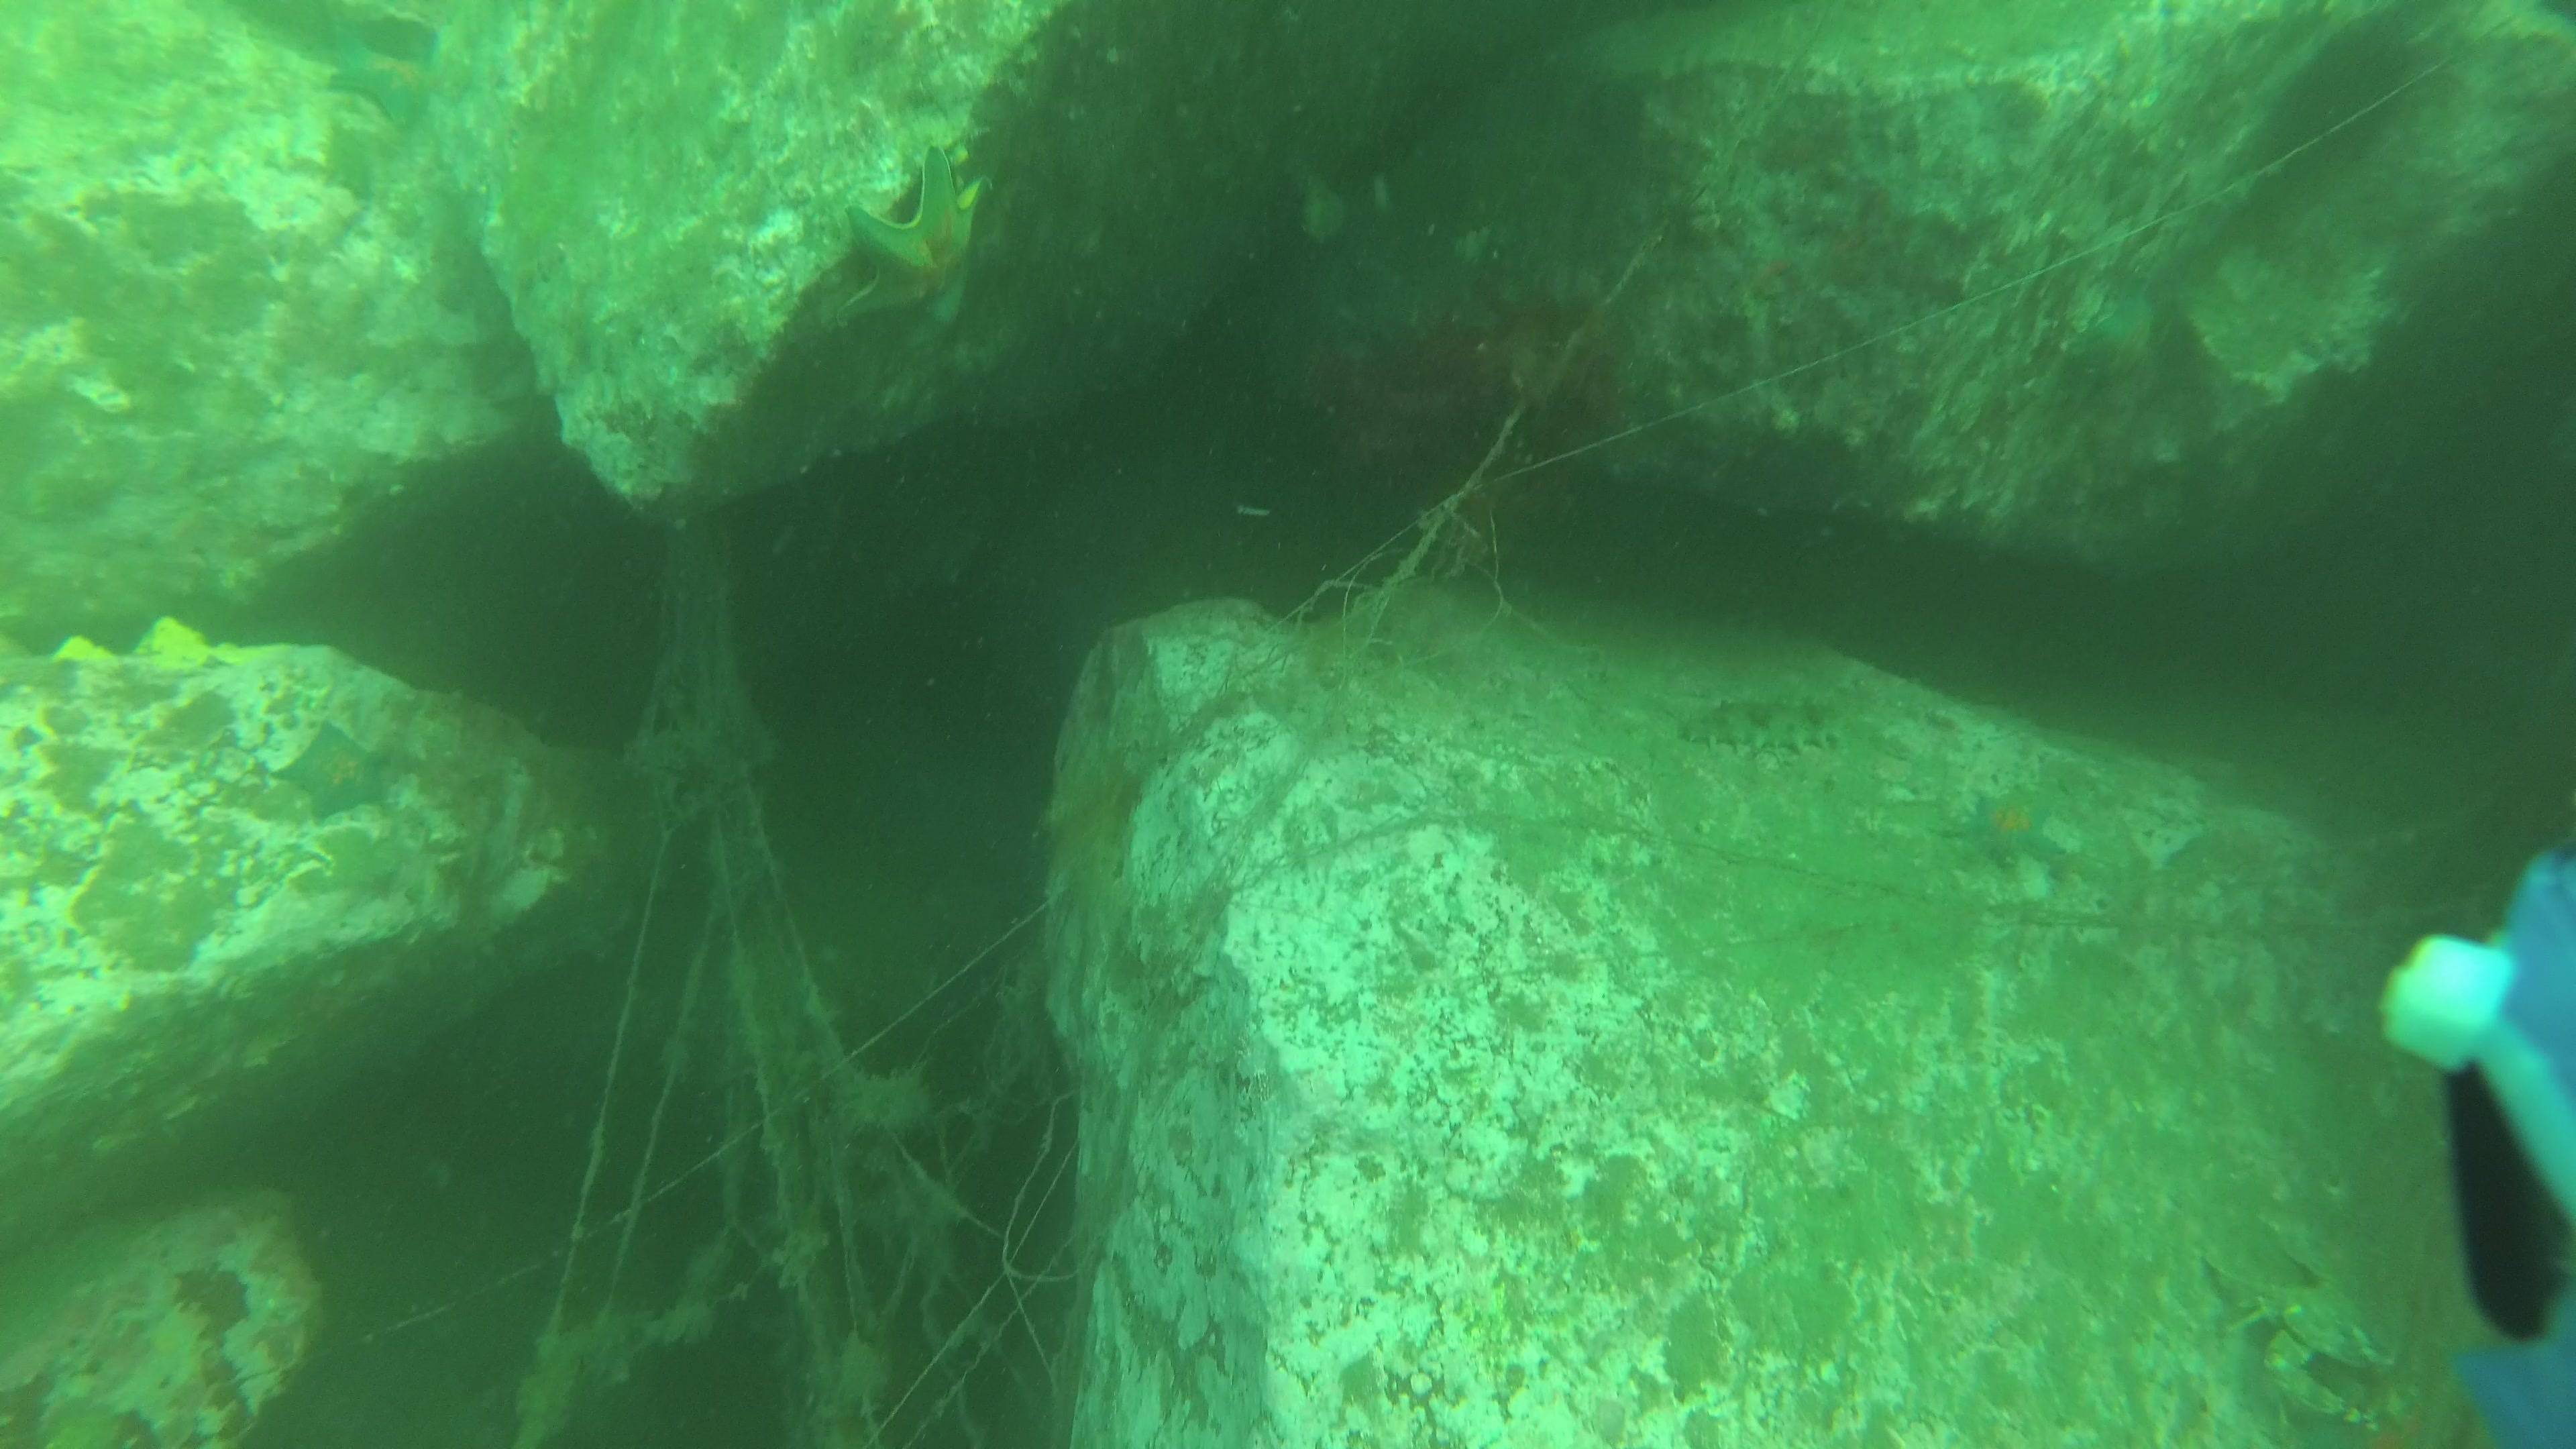holothurian: (1672, 690, 1856, 755)
starfish: (840, 142, 994, 338), (262, 713, 402, 826), (320, 30, 455, 133), (1962, 770, 2070, 869)
